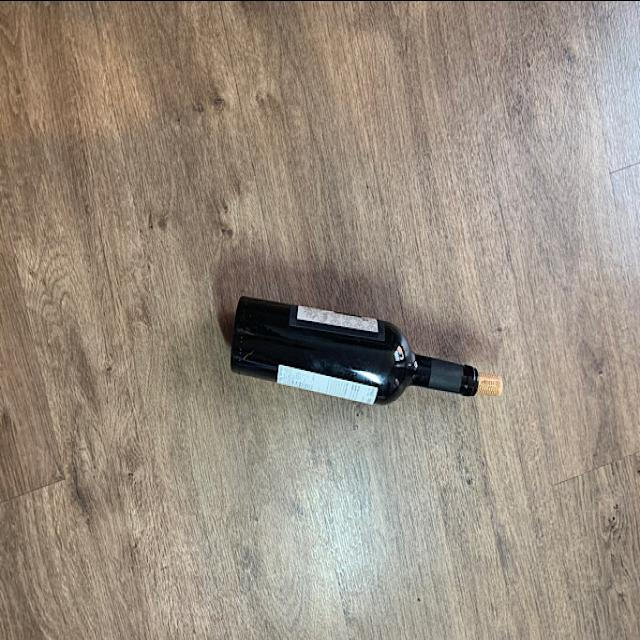litter: (227, 288, 482, 418)
